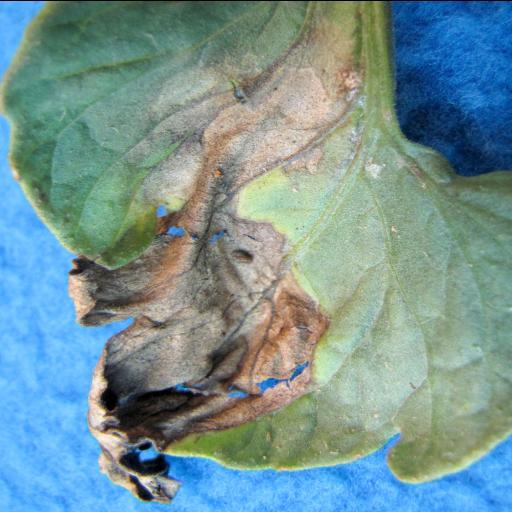disease_tomato: (6, 6, 503, 506)
